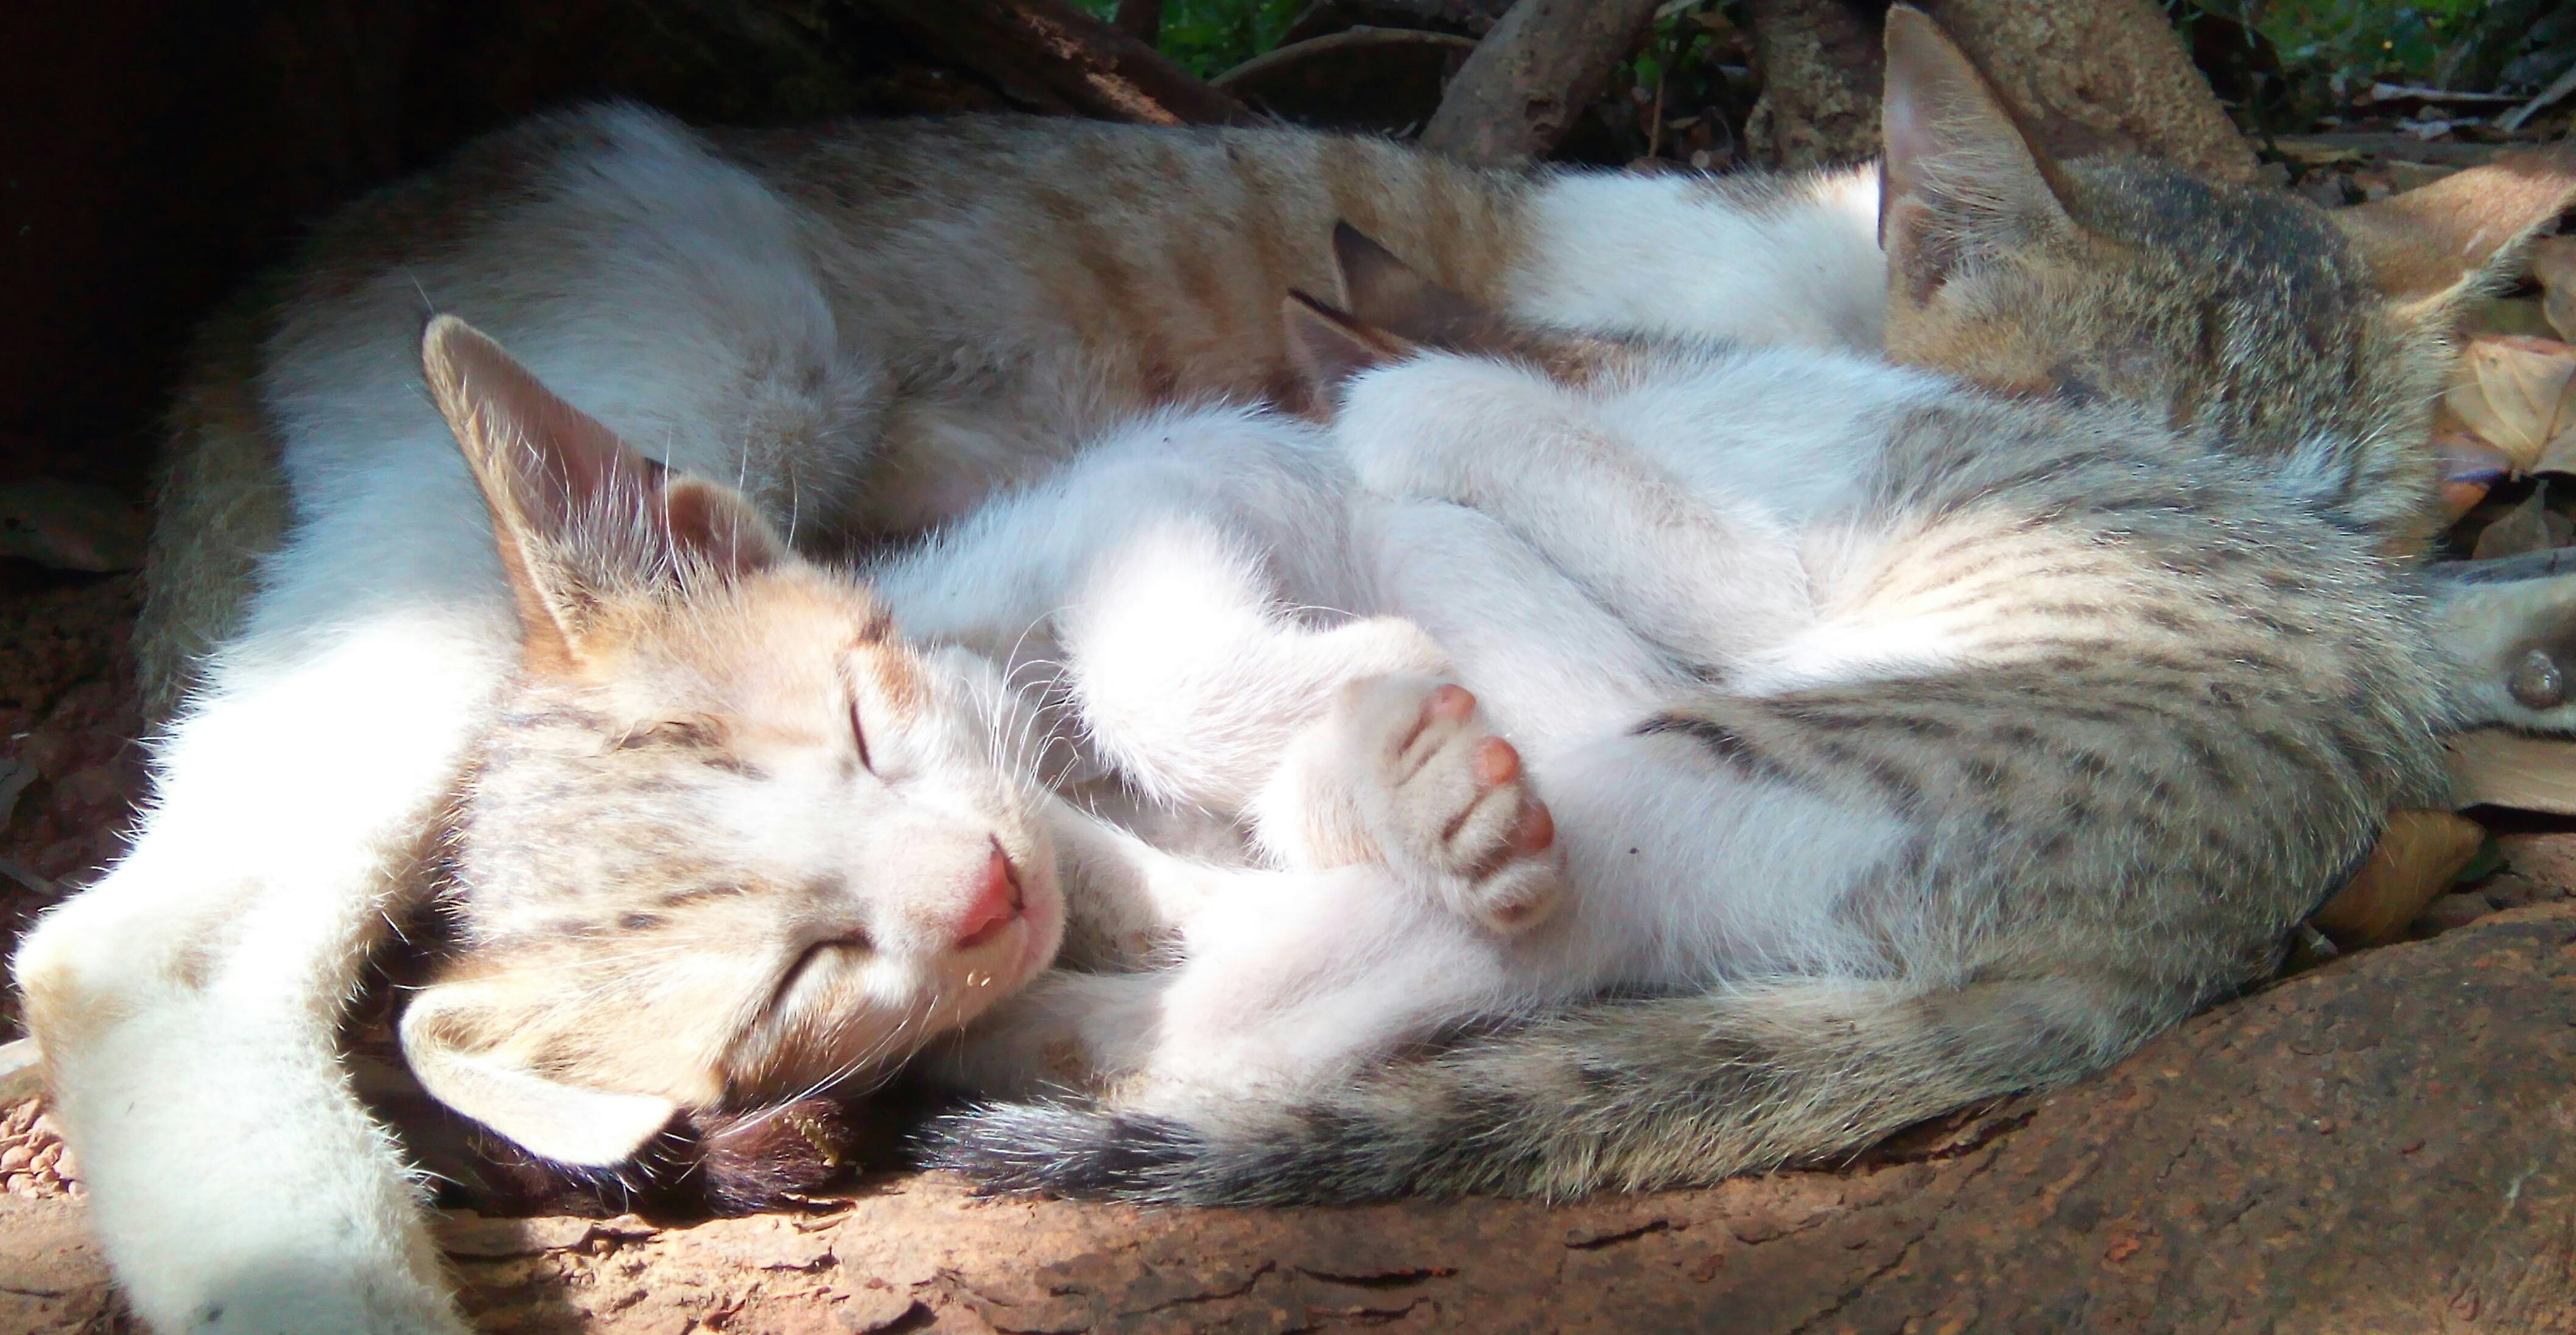cat: (350, 278, 2447, 1177)
cat-face: (350, 278, 1137, 1228)
